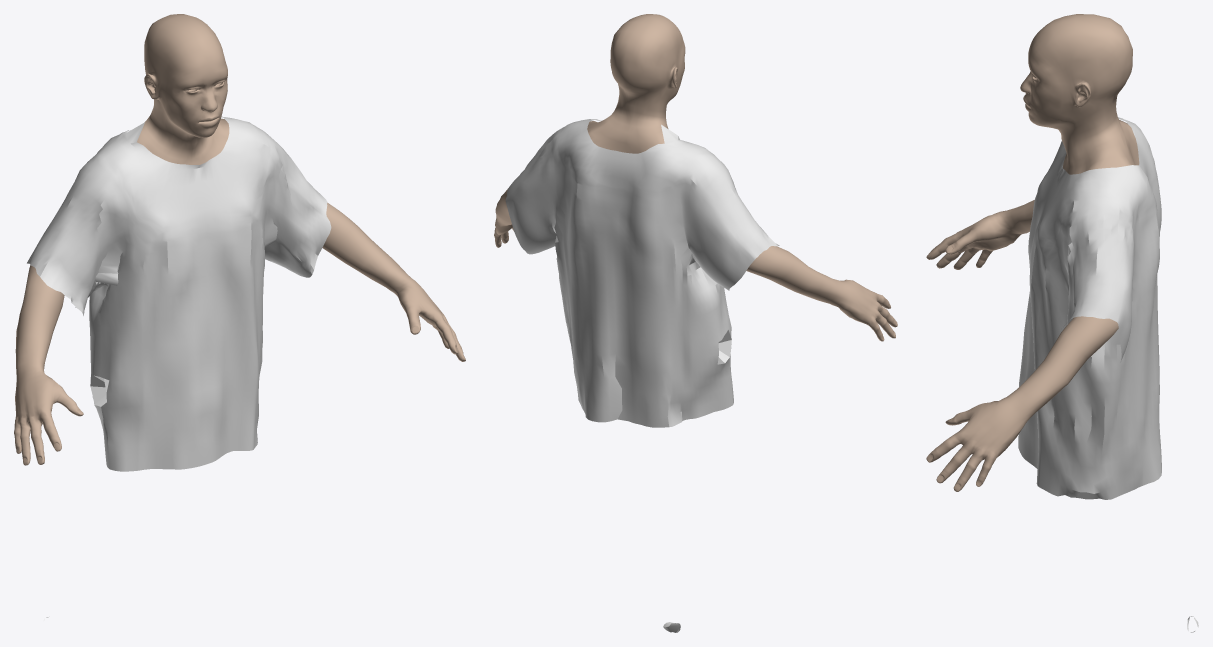
3 views of the same model, side by side, from view 1: azimuth 30°, elevation 25°; view 2: azimuth 150°, elevation 25°; view 3: azimuth 270°, elevation 25° (orthographic). The views are drawn at different scales.
Visible parts, largest first — view 1: Cube, Base; view 2: Cube, Base; view 3: Cube, Base.
Boxes of the visible parts, left/top/right/bottom form: Cube: left=27, top=116, right=331, bottom=620; Base: left=14, top=14, right=465, bottom=465; Cube: left=505, top=119, right=779, bottom=632; Base: left=494, top=14, right=897, bottom=341; Cube: left=1018, top=117, right=1198, bottom=632; Base: left=926, top=14, right=1139, bottom=491.
Size of the model in its own units: 9.07 by 12.4 by 4.66.
